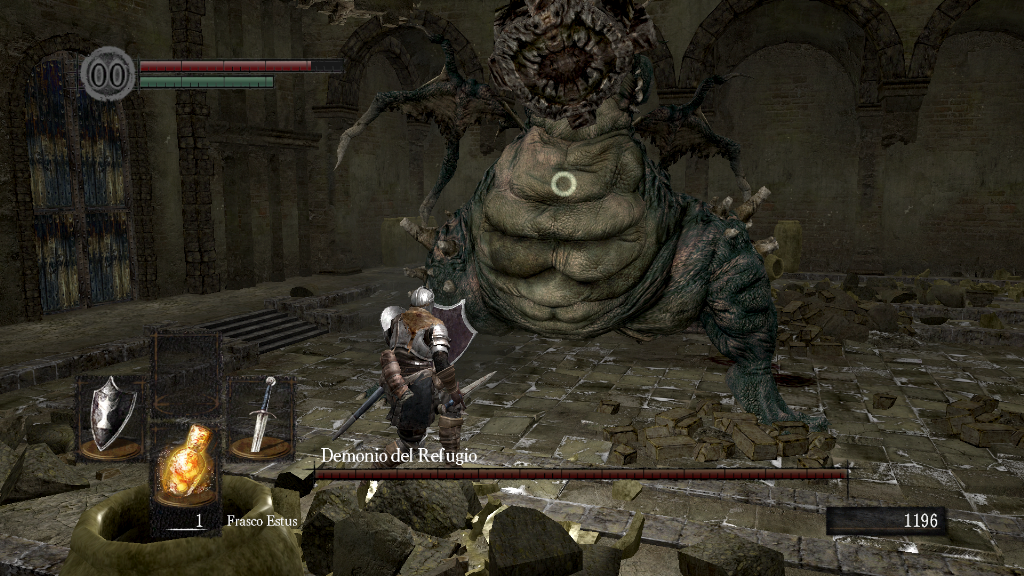asylumDemon: (329, 1, 832, 446)
bossHP: (314, 469, 847, 479)
health: (138, 58, 343, 71)
humanity: (80, 45, 136, 102)
player: (376, 281, 497, 465)
souls: (825, 506, 945, 536)
stamina: (138, 74, 274, 88)
